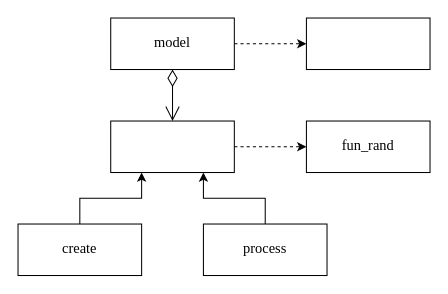
Some shapes in this 448 by 294 pixel diagram are drawn without their labels. The box of each missing label's shape, as (x1, y1, x2, y2) in pixels:
element: (110, 120, 234, 173)
main: (305, 17, 430, 70)
